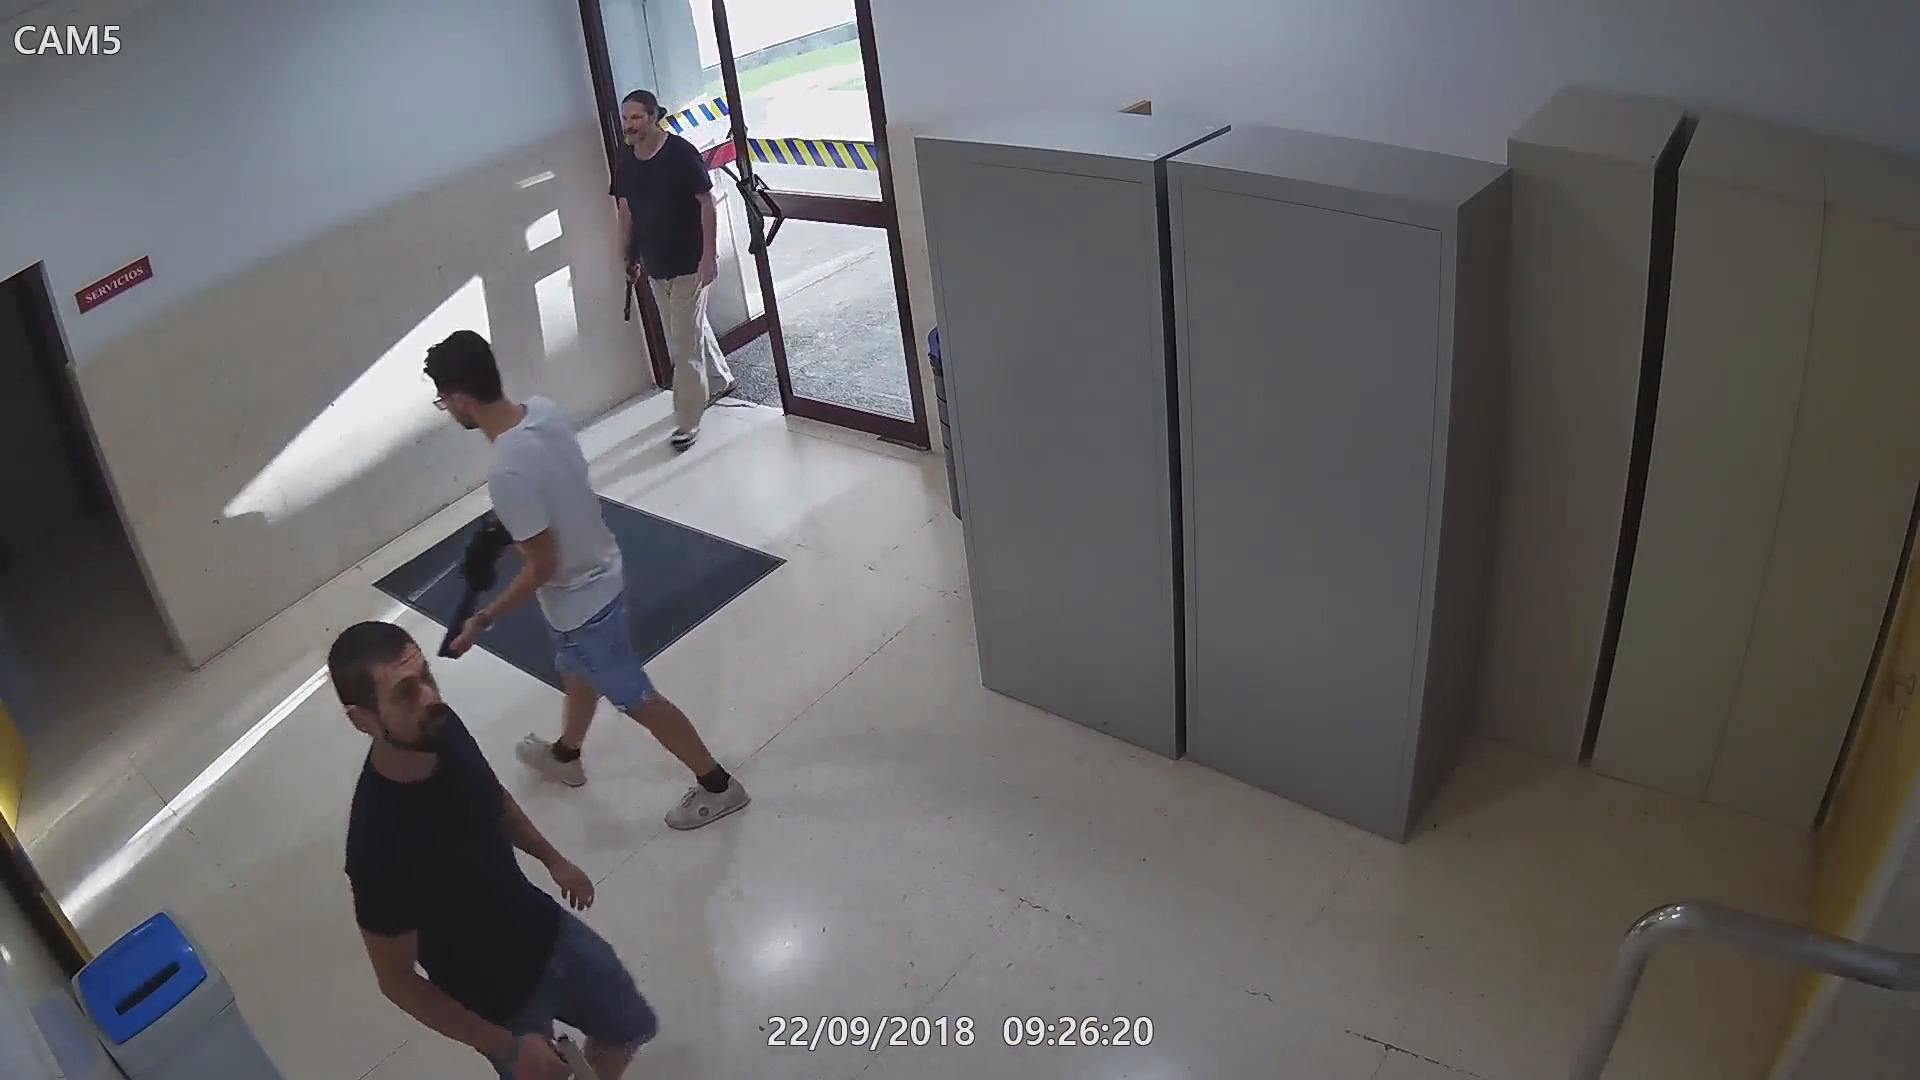pistol: (502, 1021, 615, 1080)
rifle: (436, 516, 517, 659), (618, 220, 644, 320)
